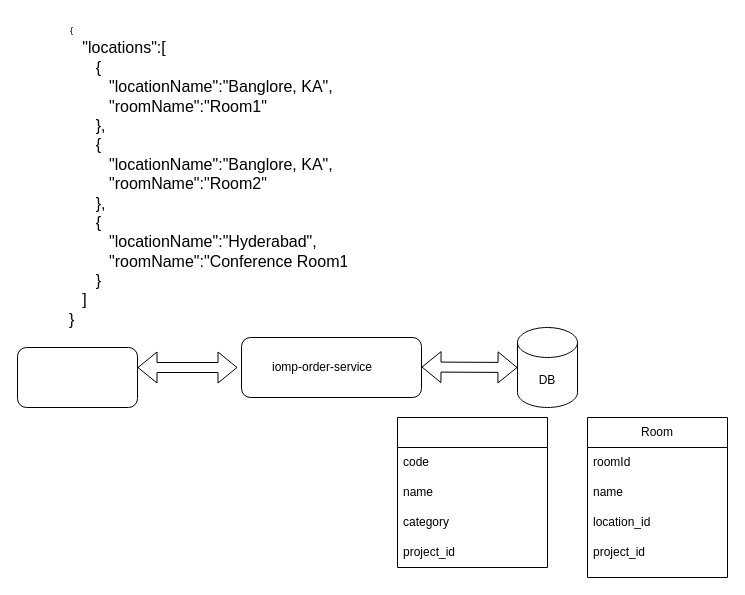
This 745x595 diagram has some shape labels left out. Each missing label, with the box of its shape:
Geograph/Locations &Room/Space POST: (16, 346, 138, 408)
Location: (396, 416, 548, 568)
